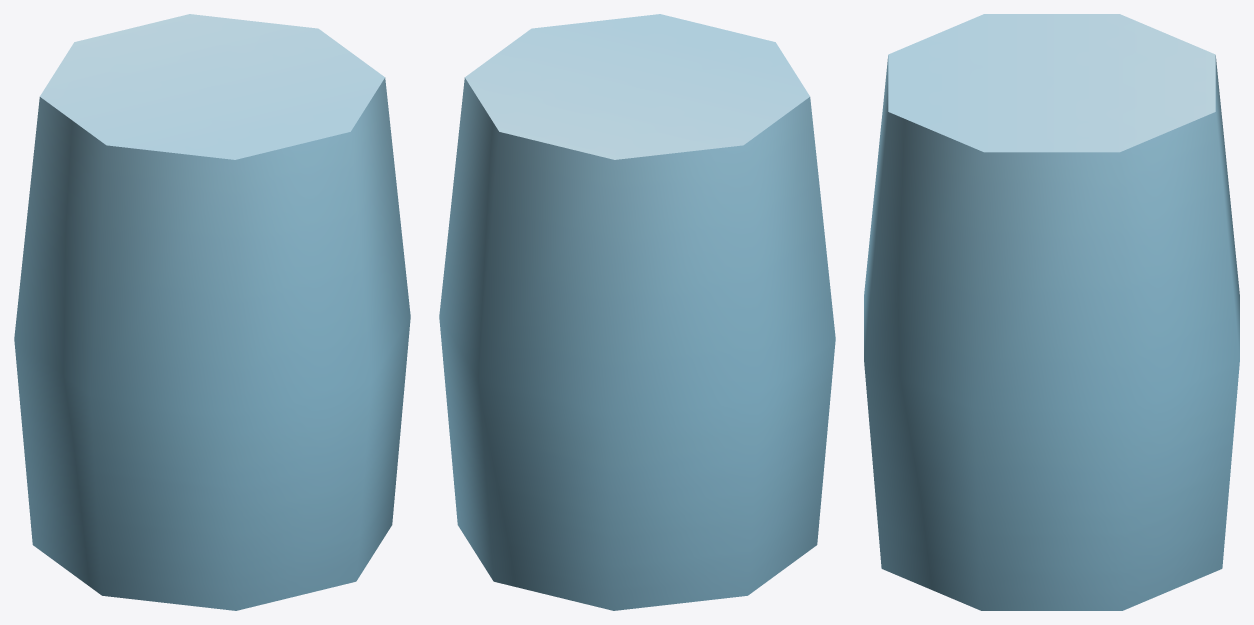
Rendered from mug_glass_content_water.fbx.
3 views of the same model, side by side, from view 1: azimuth 30°, elevation 25°; view 2: azimuth 150°, elevation 25°; view 3: azimuth 270°, elevation 25° (orthographic).
Visible parts, largest first — view 1: mug_glass_content_water; view 2: mug_glass_content_water; view 3: mug_glass_content_water.
Boxes of the visible parts, left/top/right/bottom form: mug_glass_content_water: left=14, top=14, right=410, bottom=610; mug_glass_content_water: left=439, top=14, right=835, bottom=610; mug_glass_content_water: left=864, top=14, right=1239, bottom=610.
Size of the model in its own units: 16.16 by 21.62 by 16.16.
